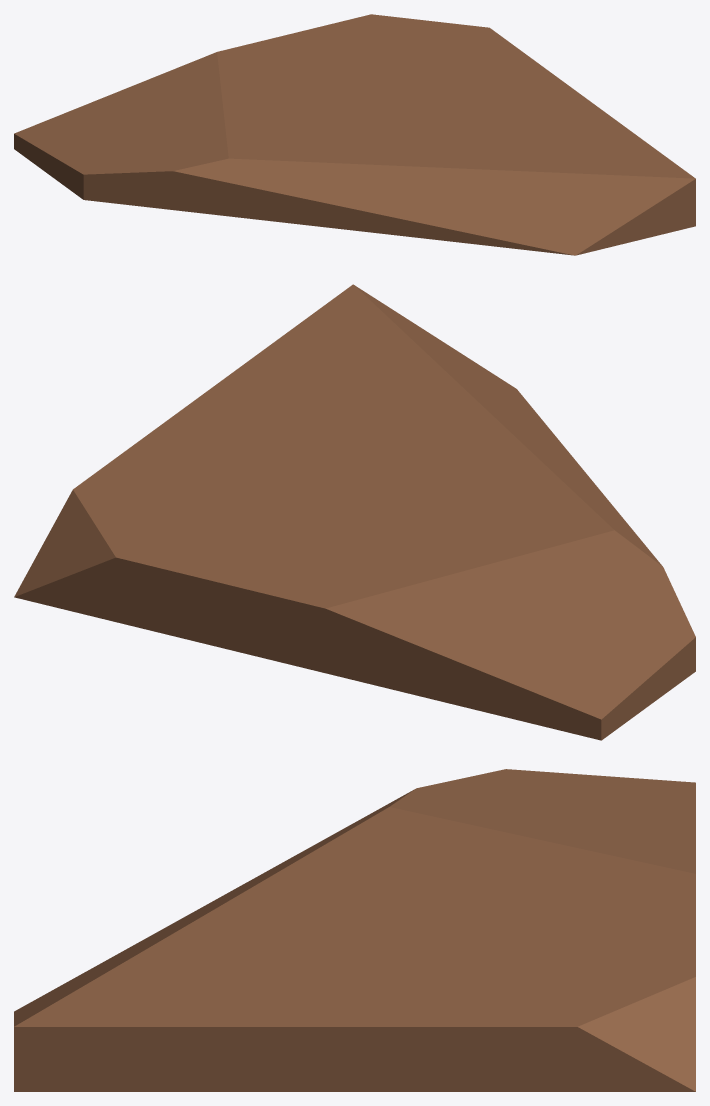
Rendered from Stoneslab_007.FBX.
The picture shows the model from 3 angles, top to bottom: view 1: azimuth 30°, elevation 25°; view 2: azimuth 150°, elevation 25°; view 3: azimuth 270°, elevation 25°; orthographic projection. The views are drawn at different scales.
Parts seen in each view (by area): view 1: Stoneslab_007; view 2: Stoneslab_007; view 3: Stoneslab_007.
Part boxes in pixels (box(x1,y1,x2,y2)): Stoneslab_007: box(14, 14, 695, 255); Stoneslab_007: box(14, 284, 695, 740); Stoneslab_007: box(14, 769, 695, 1091).
Bounding box in the file's own units: 37.4 × 3.94 × 37.4.
